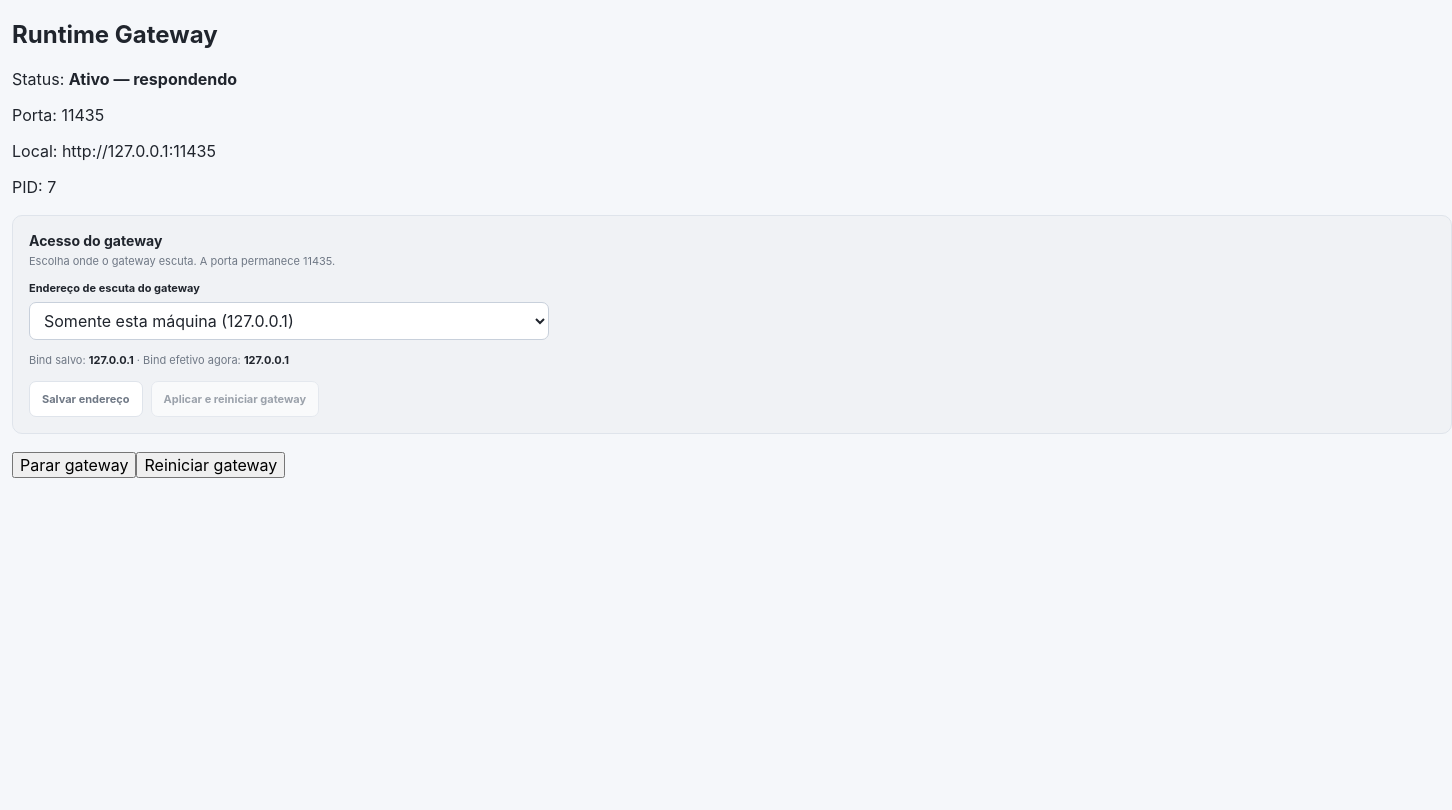
Test case: GatewayControls › shows the two bind options and warns before network exposure
Select "Rede local e Tailscale (0.0.0.0)" in the dropdown labelled "Endereço de escuta do gateway" at (289, 321), box left=29, top=302, right=549, bottom=340
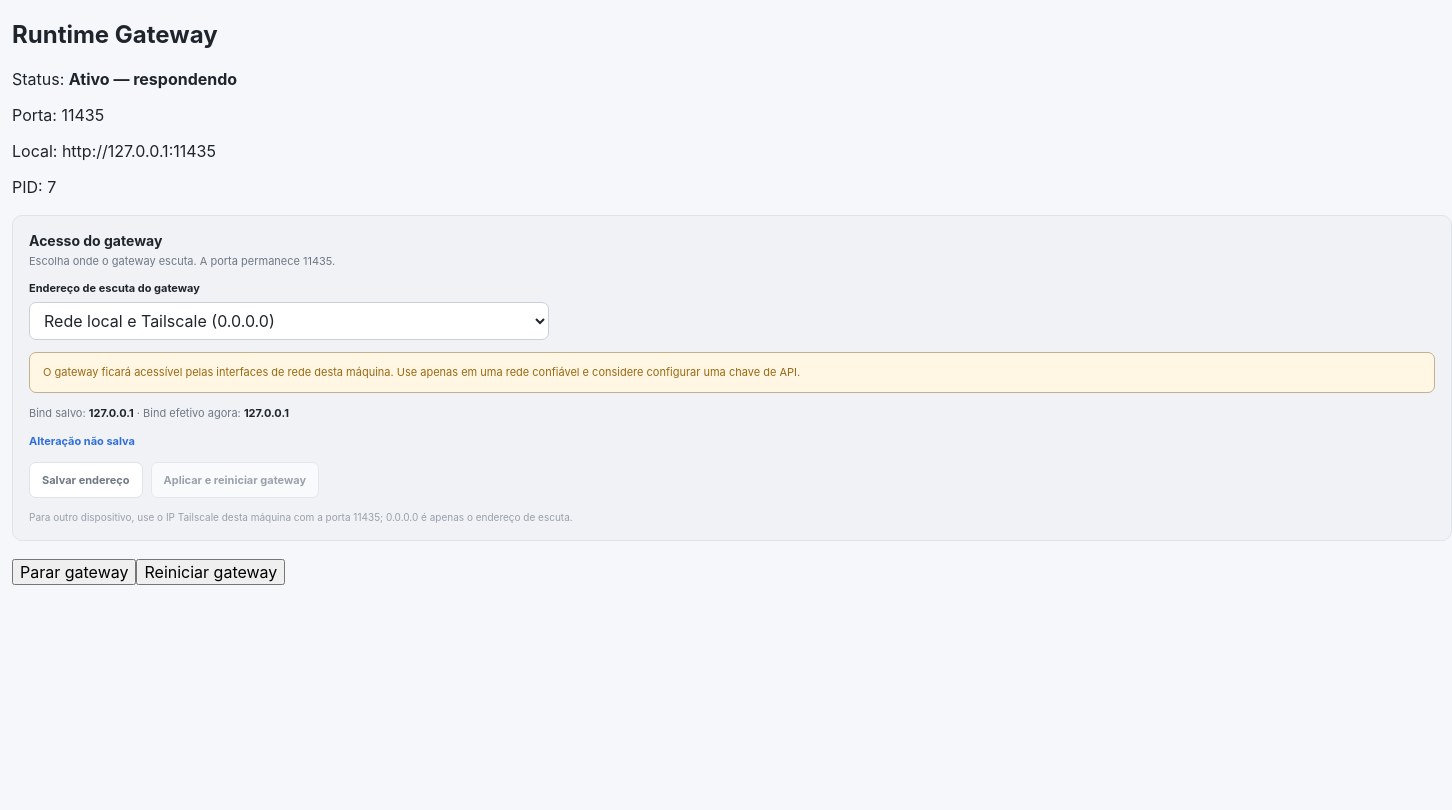
Check: the 1st message shows "interfaces de rede", box left=43, top=365, right=800, bottom=379
Check: the text "Alteração não salva" is shown, box left=29, top=434, right=135, bottom=448
